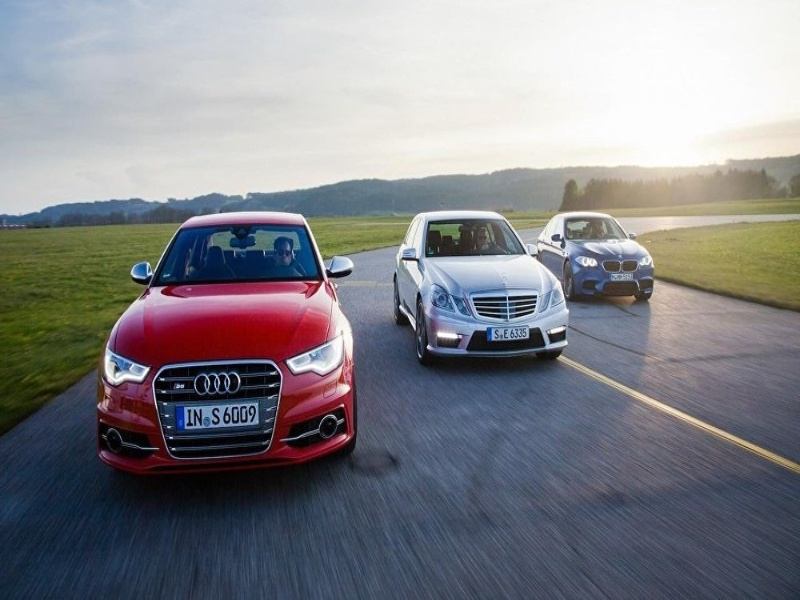car: (97, 209, 357, 476), (393, 211, 569, 367), (535, 212, 654, 301)
person: (274, 237, 293, 266), (475, 227, 491, 249)
plate: (173, 404, 259, 428), (486, 326, 529, 341), (609, 273, 633, 281)
